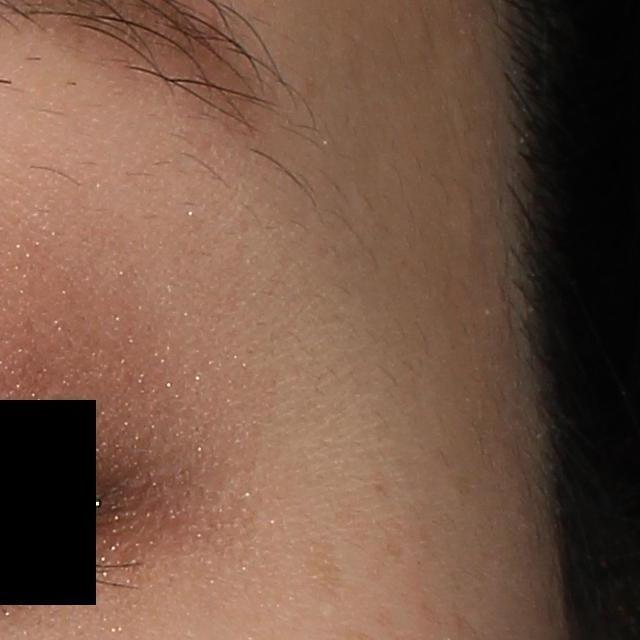melasma: (296, 535, 355, 611)
